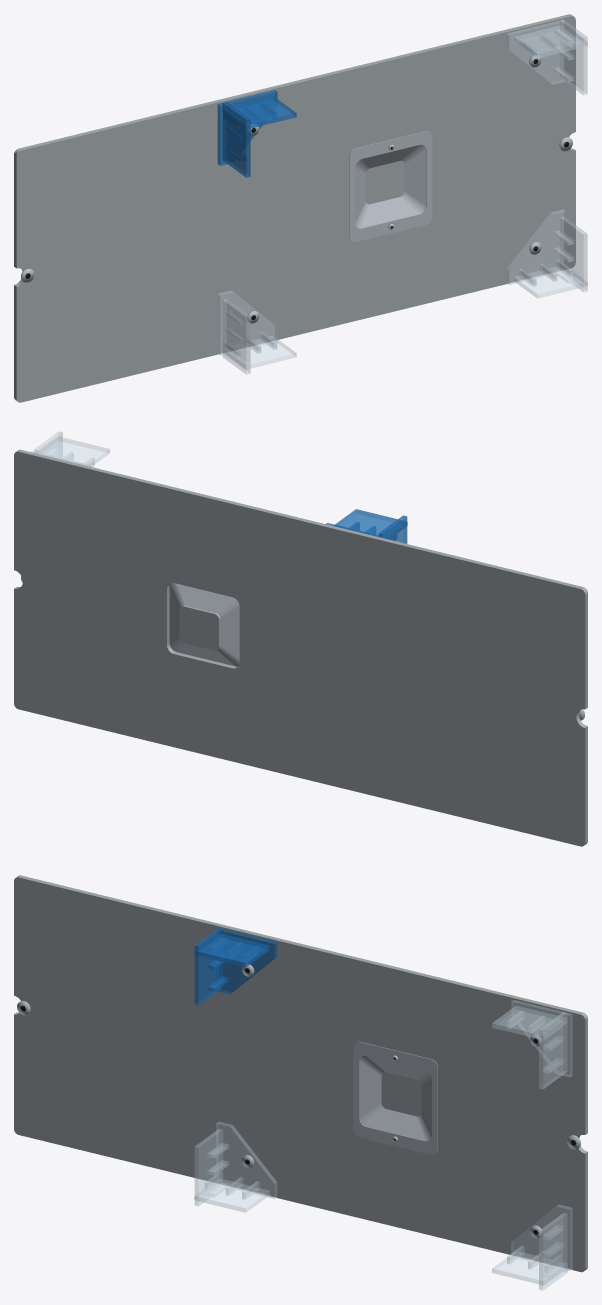
The model's file is deck_left.obj.
3 renders of one model, top to bottom at view 1: azimuth 30°, elevation 25°; view 2: azimuth 150°, elevation 25°; view 3: azimuth 330°, elevation 25°, orthographic. The views are drawn at different scales.
Visible parts, largest first — view 1: deck_left_0, deck_left_2, deck_left_1, deck_left_34, deck_left_45, deck_left_12, deck_left_24, deck_left_13, deck_left_23, deck_left_47, deck_left_35, deck_left_46 (+4 smaller); view 2: deck_left_0, deck_left_2, deck_left_3, deck_left_47, deck_left_25; view 3: deck_left_0, deck_left_2, deck_left_1, deck_left_12, deck_left_23, deck_left_34, deck_left_45, deck_left_35, deck_left_46, deck_left_13, deck_left_24, deck_left_25 (+4 smaller).
Boxes of the visible parts, x1,y1,x2,y2 form: deck_left_0: (14,14,575,402); deck_left_2: (355,144,425,228); deck_left_1: (349,131,432,241); deck_left_34: (507,209,566,284); deck_left_45: (507,20,566,84); deck_left_12: (218,290,277,355); deck_left_24: (222,102,250,177); deck_left_13: (223,299,250,374); deck_left_23: (217,90,277,165); deck_left_47: (514,25,587,58); deck_left_35: (560,216,587,291); deck_left_46: (560,20,587,95); deck_left_0: (14,449,587,846); deck_left_2: (169,582,239,666); deck_left_3: (179,605,220,650); deck_left_47: (38,437,109,466); deck_left_25: (334,509,407,539); deck_left_0: (14,875,587,1272); deck_left_2: (359,1055,431,1141); deck_left_1: (353,1041,437,1155); deck_left_12: (216,1122,276,1198); deck_left_23: (216,928,277,994); deck_left_34: (511,1205,572,1270); deck_left_45: (511,1000,572,1076); deck_left_35: (539,1213,567,1290); deck_left_46: (539,1012,567,1088); deck_left_13: (195,1129,222,1206); deck_left_24: (194,928,223,1005); deck_left_25: (194,933,269,967).
Bounding box in the file's own units: 0.2438 × 0.106 × 0.025.
